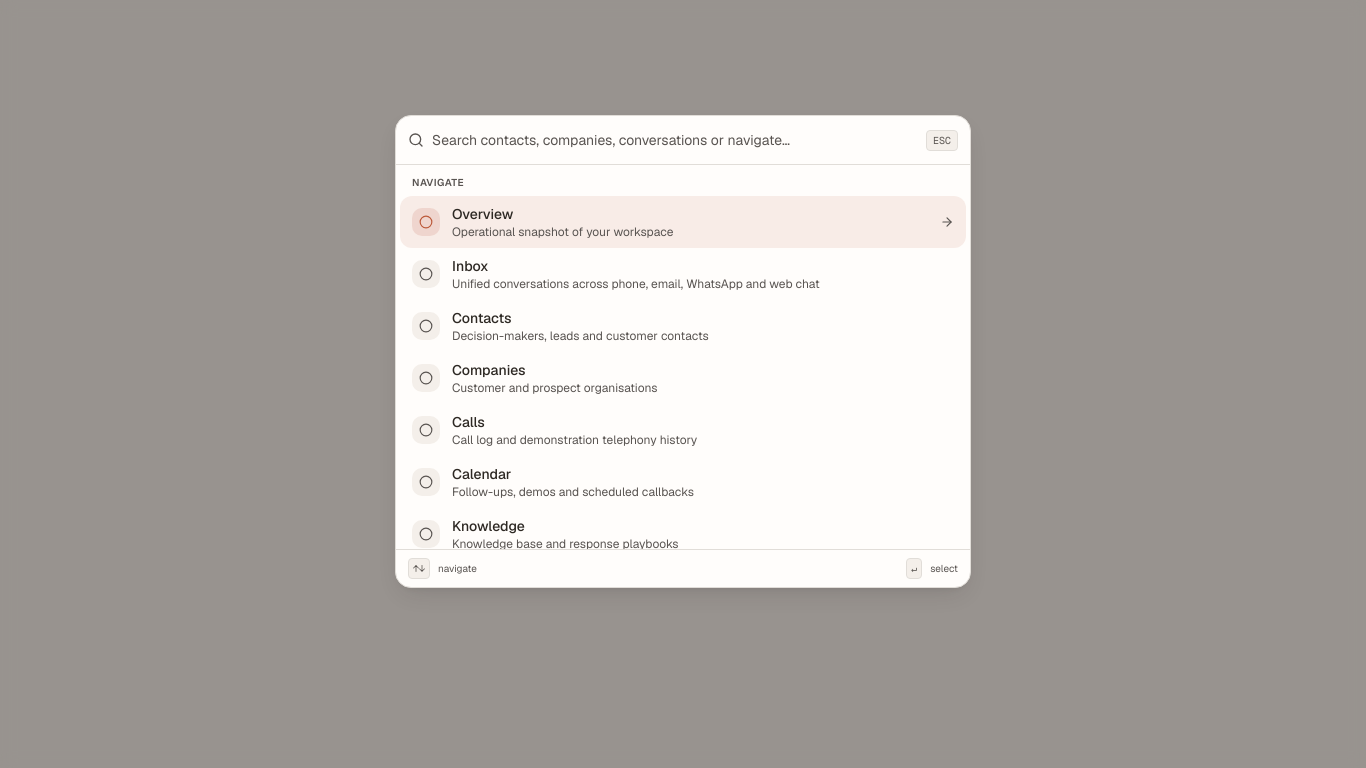
Test: CommandPalette › filters results by query
The width and height of the screenshot is (1366, 768).
Type "inbox" into the field named "Command palette search" at {"x": 675, "y": 140}, box [432, 116, 918, 164]
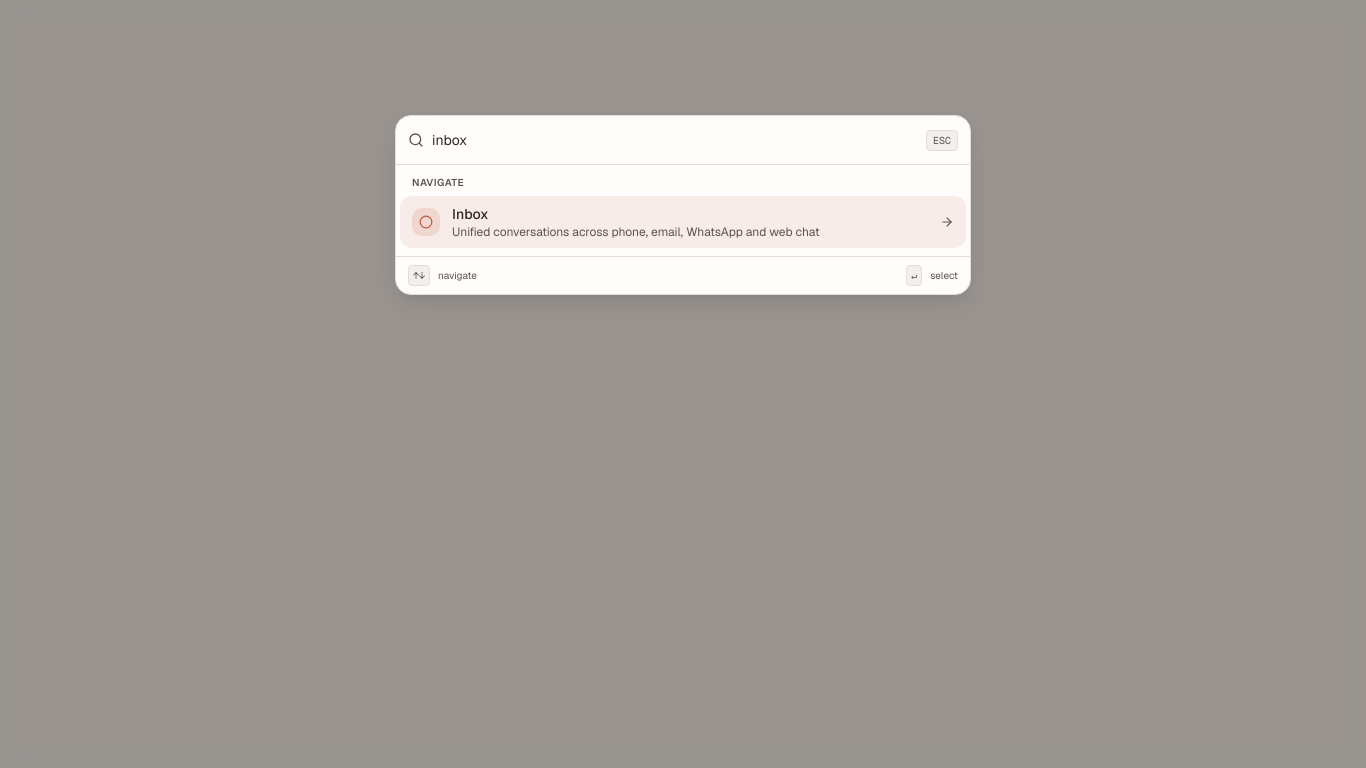
Expected: the text "Inbox" is shown, [452, 205, 488, 223]
Expected: the option "Overview" is gone
